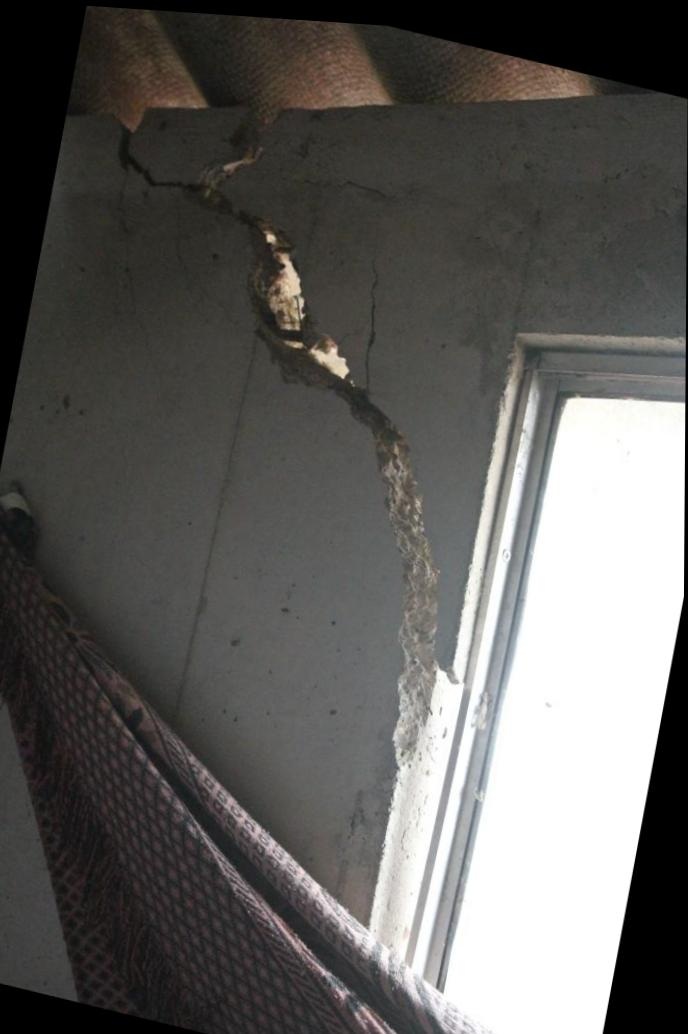crack: (112, 102, 458, 758)
